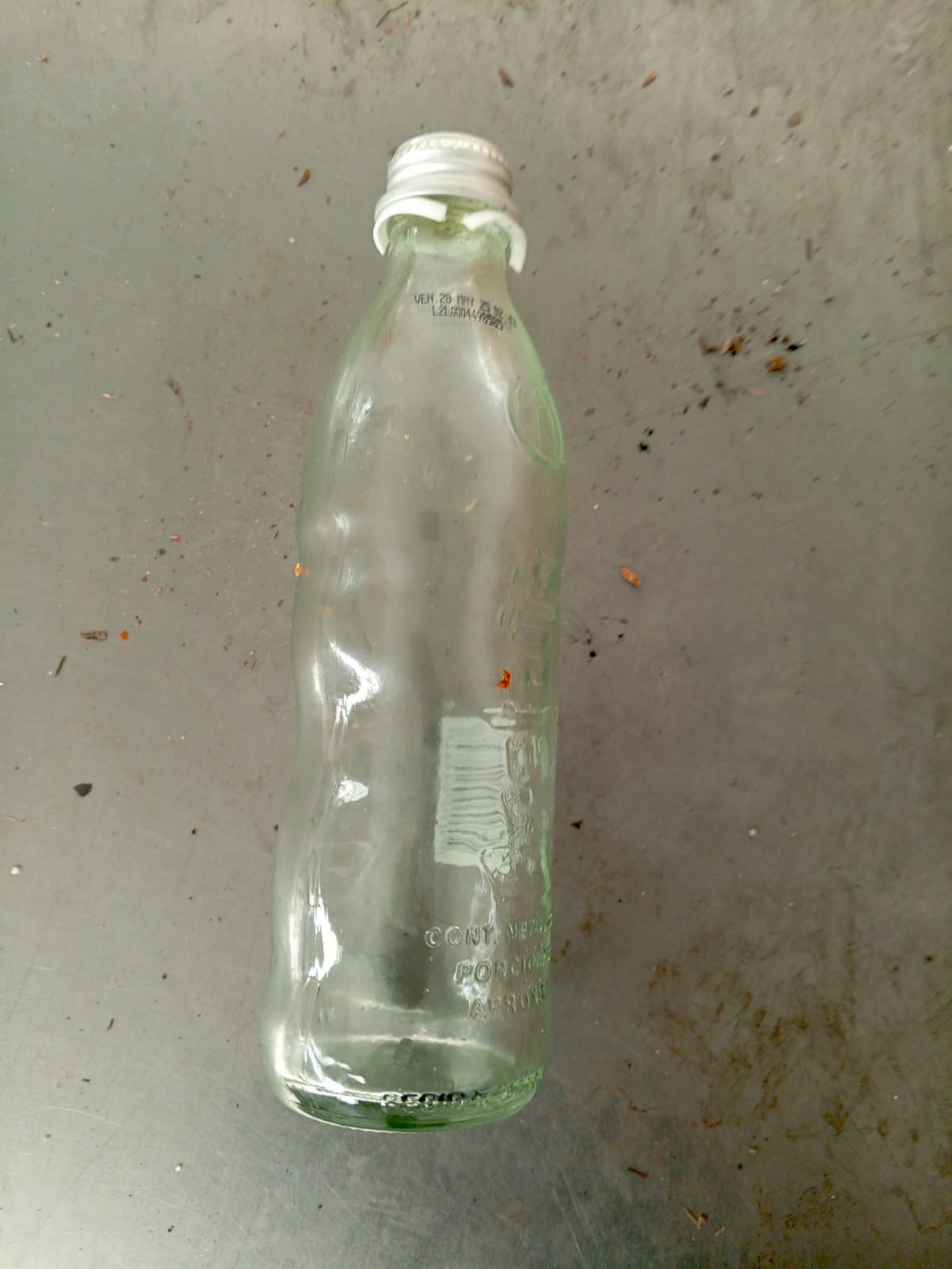Metal: (381, 127, 517, 202)
Vidrio: (258, 205, 570, 1134)
